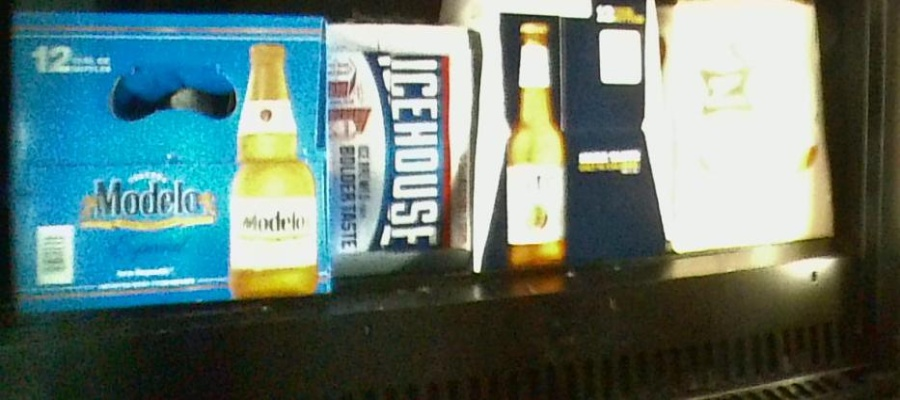bottle: (6, 13, 329, 301), (472, 1, 668, 275), (669, 3, 836, 254), (330, 25, 471, 272)
